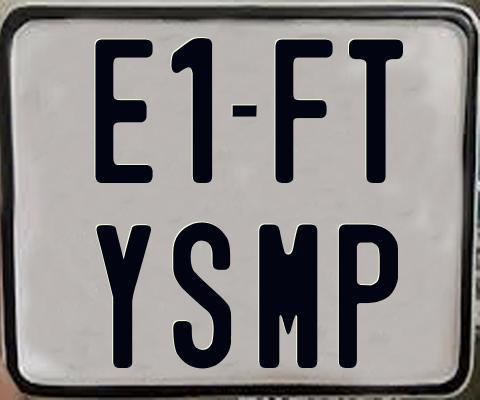1: (168, 37, 214, 186)
E: (94, 36, 156, 184)
F: (274, 36, 337, 185)
M: (256, 222, 320, 369)
P: (339, 221, 401, 371)
S: (173, 220, 233, 373)
T: (346, 36, 402, 185)
Y: (93, 224, 152, 371)
